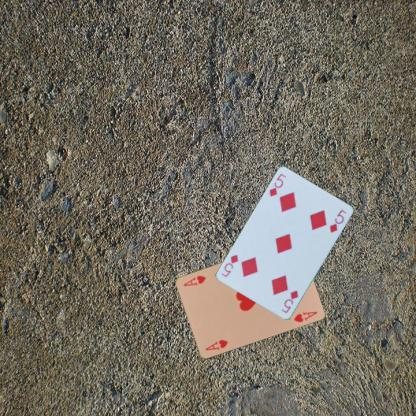5d: (264, 171, 287, 198), (278, 288, 300, 314)
Ah: (203, 337, 229, 352)
